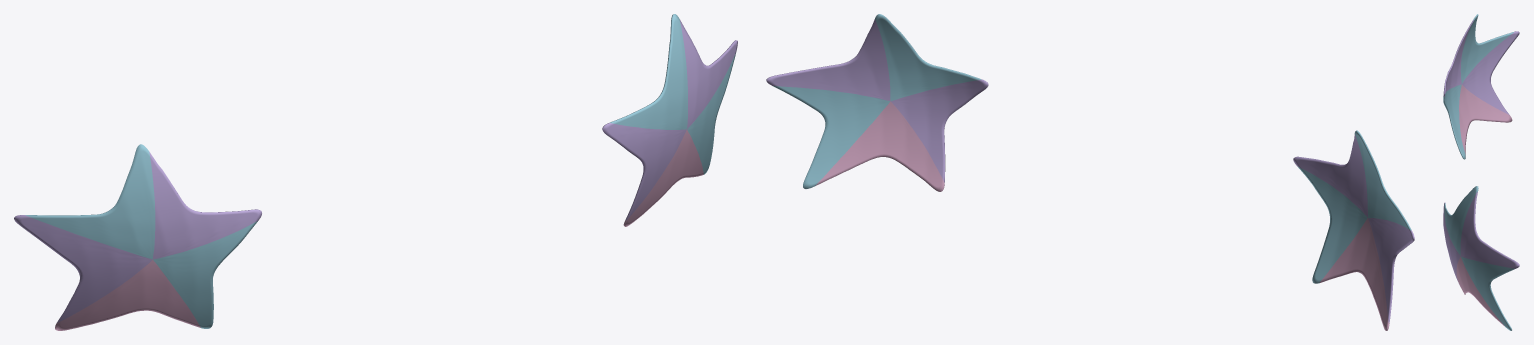
Rendered from Feminine-bandeau-top.glb.
3 renders of one model, left to right at view 1: azimuth 30°, elevation 25°; view 2: azimuth 150°, elevation 25°; view 3: azimuth 270°, elevation 25°, orthographic. The views are drawn at different scales.
Parts seen in each view (by area): view 1: Top / star pastie192 -1, Top / star pastie192 1; view 2: Top / star pastie192 1, Top / star pastie192 -1; view 3: Top / star pastie192 -1, Top / star pastie192 1.
Boxes of the visible parts, left/top/right/bottom form: Top / star pastie192 -1: left=14, top=144, right=261, bottom=330; Top / star pastie192 1: left=602, top=14, right=737, bottom=226; Top / star pastie192 1: left=766, top=14, right=988, bottom=191; Top / star pastie192 -1: left=1293, top=130, right=1414, bottom=330; Top / star pastie192 -1: left=1443, top=14, right=1519, bottom=159; Top / star pastie192 1: left=1443, top=186, right=1519, bottom=330.
Size of the model in its own units: 0.4194 by 0.1062 by 0.058.
